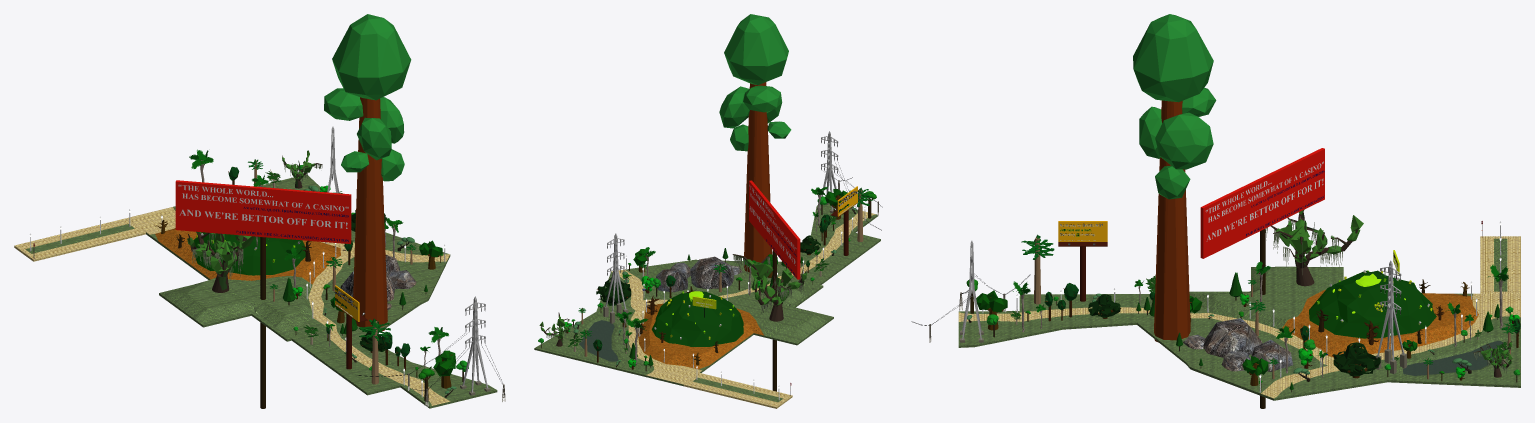
Rendered from Central Park.glb.
The picture shows the model from 3 angles, left to right: view 1: azimuth 30°, elevation 25°; view 2: azimuth 150°, elevation 25°; view 3: azimuth 270°, elevation 25°; orthographic projection. The views are drawn at different scales.
Parts seen in each view (by area): view 1: Ground, Leaves, bILLBOARD, Trunk, Road, Sludgemound, Text.010, Tower, Rock, Trunk.010, Trunk.041, Streetlights (+1 smaller); view 2: Ground, Leaves, Sludgemound, bILLBOARD, Trunk, Rock, Road, Tower.001, Trunk.010, Tower, Text.010, Trunk.041 (+3 smaller); view 3: Ground, Leaves, bILLBOARD, Sludgemound, Trunk, Rock, Road, Tower.001, Text.010, Trunk.010, BillboardBack, Trunk.041 (+3 smaller).
Boxes of the visible parts, x1=… form: Ground: x1=127, y1=174, x2=497, y2=408; Leaves: x1=187, y1=14, x2=468, y2=393; bILLBOARD: x1=175, y1=180, x2=351, y2=408; Trunk: x1=353, y1=97, x2=387, y2=331; Road: x1=14, y1=218, x2=145, y2=261; Sludgemound: x1=193, y1=232, x2=305, y2=275; Text.010: x1=178, y1=184, x2=348, y2=241; Tower: x1=460, y1=296, x2=490, y2=395; Rock: x1=340, y1=254, x2=416, y2=310; Trunk.010: x1=188, y1=152, x2=322, y2=292; Trunk.041: x1=254, y1=160, x2=412, y2=384; Streetlights: x1=29, y1=209, x2=445, y2=397; Ground: x1=534, y1=203, x2=880, y2=386; Leaves: x1=538, y1=14, x2=876, y2=367; Sludgemound: x1=651, y1=291, x2=743, y2=346; bILLBOARD: x1=749, y1=180, x2=800, y2=391; Trunk: x1=744, y1=82, x2=772, y2=273; Rock: x1=656, y1=256, x2=742, y2=292; Road: x1=683, y1=373, x2=792, y2=408; Tower.001: x1=603, y1=233, x2=628, y2=323; Trunk.010: x1=541, y1=254, x2=806, y2=346; Tower: x1=817, y1=131, x2=838, y2=213; Text.010: x1=749, y1=185, x2=796, y2=276; Trunk.041: x1=581, y1=189, x2=863, y2=356; Ground: x1=958, y1=266, x2=1520, y2=400; Leaves: x1=966, y1=14, x2=1520, y2=389; bILLBOARD: x1=1200, y1=148, x2=1324, y2=408; Sludgemound: x1=1309, y1=270, x2=1436, y2=338; Trunk: x1=1154, y1=100, x2=1190, y2=342; Rock: x1=1183, y1=318, x2=1292, y2=371; Road: x1=1480, y1=236, x2=1520, y2=293; Tower.001: x1=1375, y1=260, x2=1406, y2=373; Text.010: x1=1205, y1=161, x2=1324, y2=241; Trunk.010: x1=1270, y1=210, x2=1511, y2=377; BillboardBack: x1=1058, y1=221, x2=1107, y2=241; Trunk.041: x1=1034, y1=237, x2=1510, y2=379.
Bounding box in the file's own units: 94.79 × 116 × 151.
Materials: 75 (6 with a texture image).
